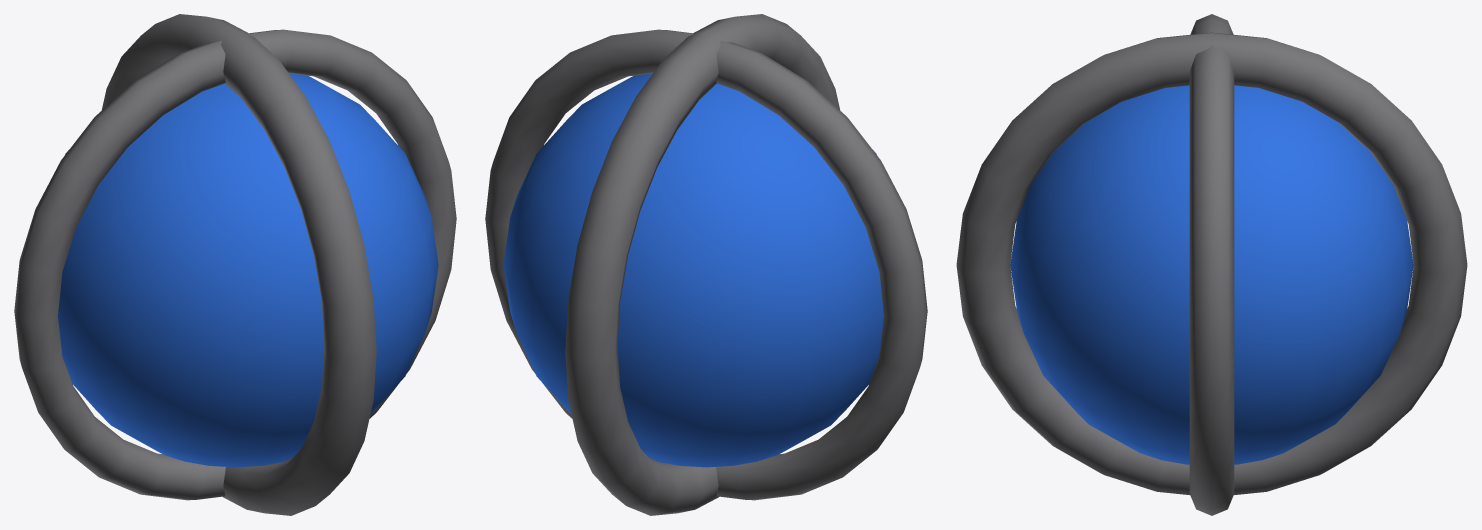
The model's file is Kit_Joint_Free.glb.
3 renders of one model, left to right at view 1: azimuth 30°, elevation 25°; view 2: azimuth 150°, elevation 25°; view 3: azimuth 270°, elevation 25°, orthographic.
Parts seen in each view (by area): view 1: Kit_Joint_Free; view 2: Kit_Joint_Free; view 3: Kit_Joint_Free.
Boxes of the visible parts, left/top/right/bottom form: Kit_Joint_Free: left=14, top=14, right=456, bottom=515; Kit_Joint_Free: left=485, top=14, right=927, bottom=515; Kit_Joint_Free: left=956, top=14, right=1467, bottom=515.
Bounding box in the file's own units: 2.24 × 2.28 × 2.28.
